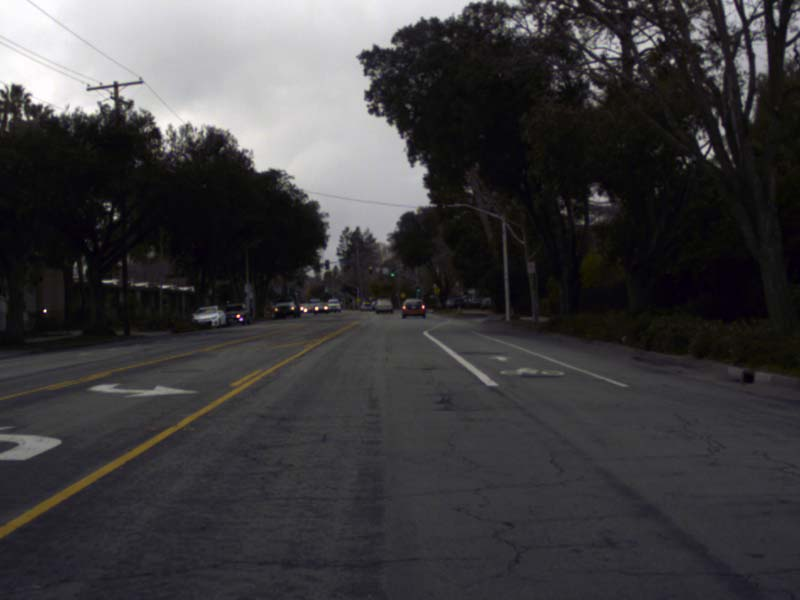Green: (324, 284, 328, 292), (390, 268, 393, 276), (416, 285, 419, 291)
Red: (369, 266, 372, 274)
